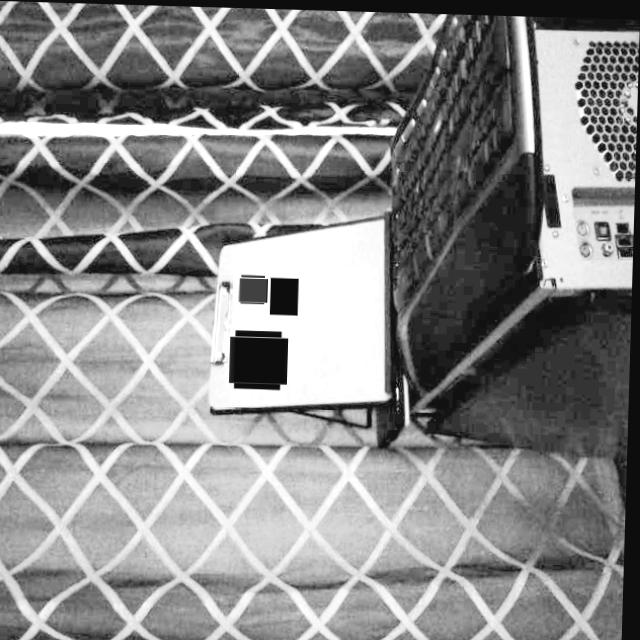qr_code: (233, 331, 287, 385), (271, 274, 301, 313), (241, 273, 269, 301)
